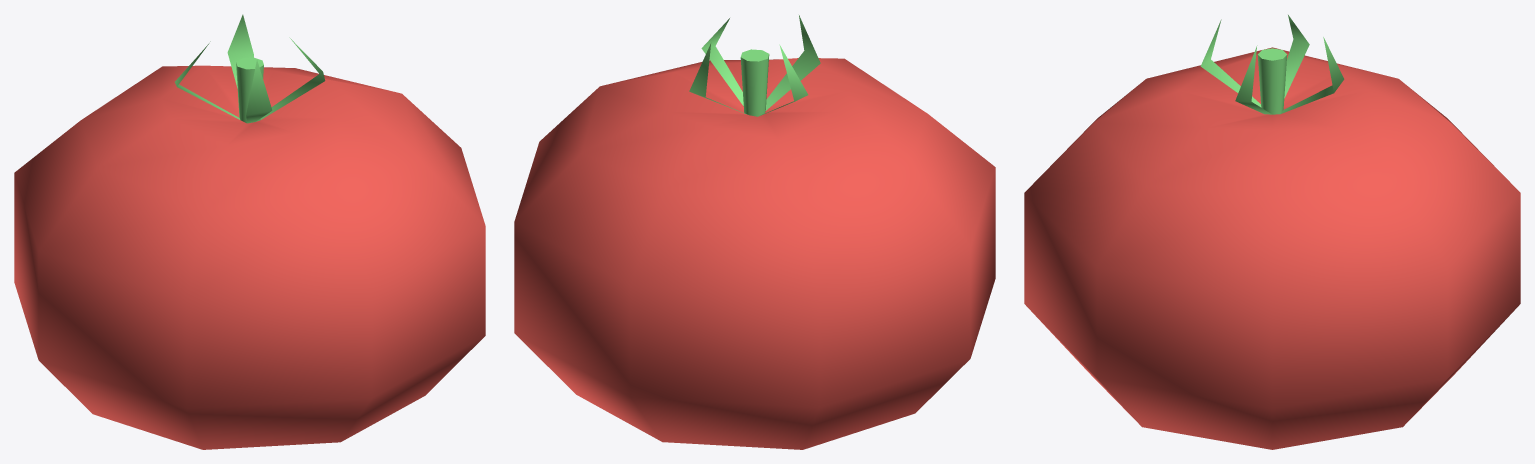
The model's file is Tomato.fbx.
The picture shows the model from 3 angles, left to right: view 1: azimuth 30°, elevation 25°; view 2: azimuth 150°, elevation 25°; view 3: azimuth 270°, elevation 25°; orthographic projection. The views are drawn at different scales.
Parts seen in each view (by area): view 1: Tomato.001; view 2: Tomato.001; view 3: Tomato.001.
Part boxes in pixels (left/top/right/bottom): Tomato.001: left=14, top=14, right=485, bottom=449; Tomato.001: left=514, top=15, right=995, bottom=449; Tomato.001: left=1024, top=15, right=1520, bottom=449.
Size of the model in its own units: 176 by 148 by 176.
